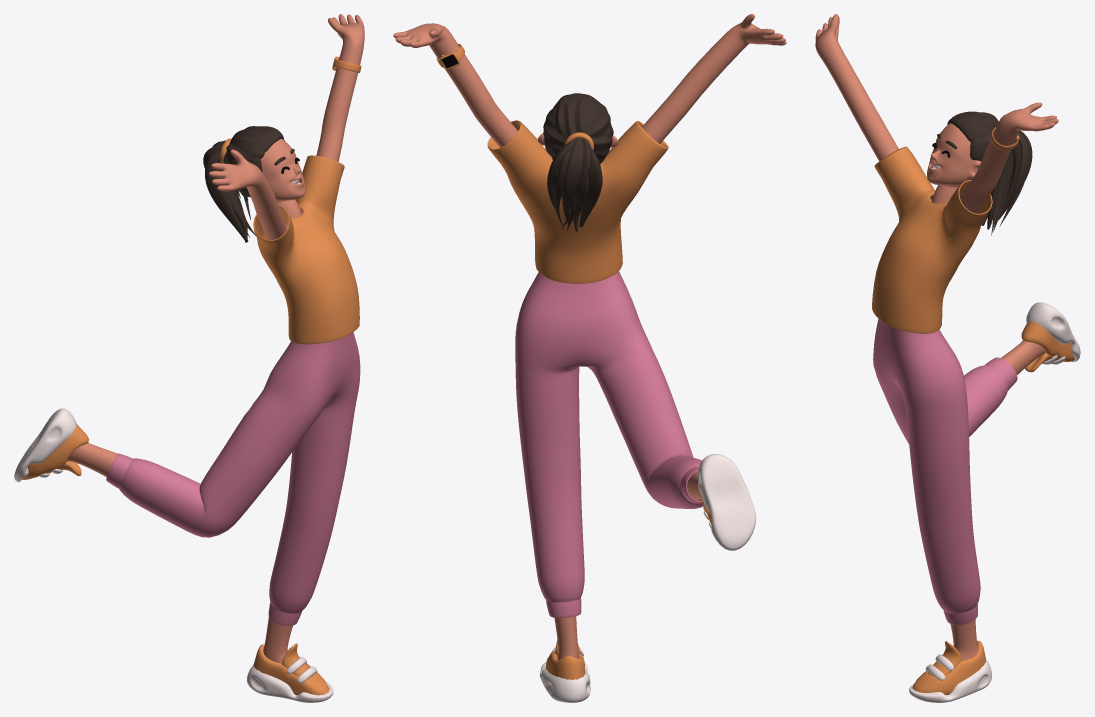
File: icons8_joyful_young_woman_jumping.glb
3 views of the same model, side by side, from view 1: azimuth 30°, elevation 25°; view 2: azimuth 150°, elevation 25°; view 3: azimuth 270°, elevation 25° (orthographic). The views are drawn at different scales.
Visible parts, largest first — view 1: icons8_joyful_young_woman_jumping; view 2: icons8_joyful_young_woman_jumping; view 3: icons8_joyful_young_woman_jumping.
Part boxes in pixels (bbox=[...]): icons8_joyful_young_woman_jumping: bbox=[14, 14, 364, 702]; icons8_joyful_young_woman_jumping: bbox=[393, 14, 786, 702]; icons8_joyful_young_woman_jumping: bbox=[815, 14, 1080, 702].
Bounding box in the file's own units: 1.99 × 3.49 × 1.34.
Materials: 1 (1 with a texture image).
